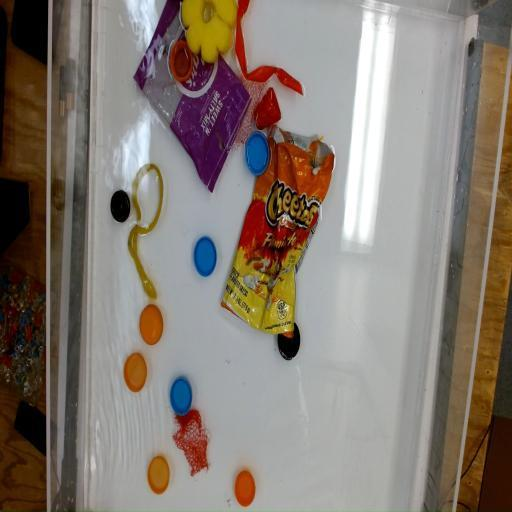Bottle Cap: (244, 130, 270, 180), (275, 318, 301, 364), (123, 350, 148, 394), (140, 302, 164, 346), (194, 234, 218, 278), (147, 452, 171, 494), (170, 376, 194, 416), (170, 41, 194, 80), (236, 470, 256, 506), (110, 188, 130, 222)
Cone Cap: (252, 85, 282, 133)
Netting: (228, 77, 266, 158), (170, 410, 211, 475)
Plastic Bag: (220, 122, 336, 338), (132, 0, 252, 197)
Plastic Strand: (234, 0, 306, 99), (128, 160, 169, 302)
Sponge: (180, 0, 238, 64)
